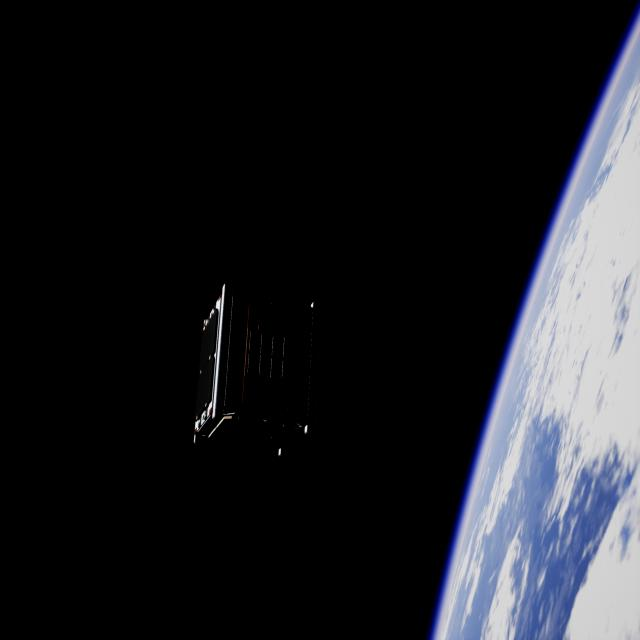satellite: (182, 273, 332, 469)
